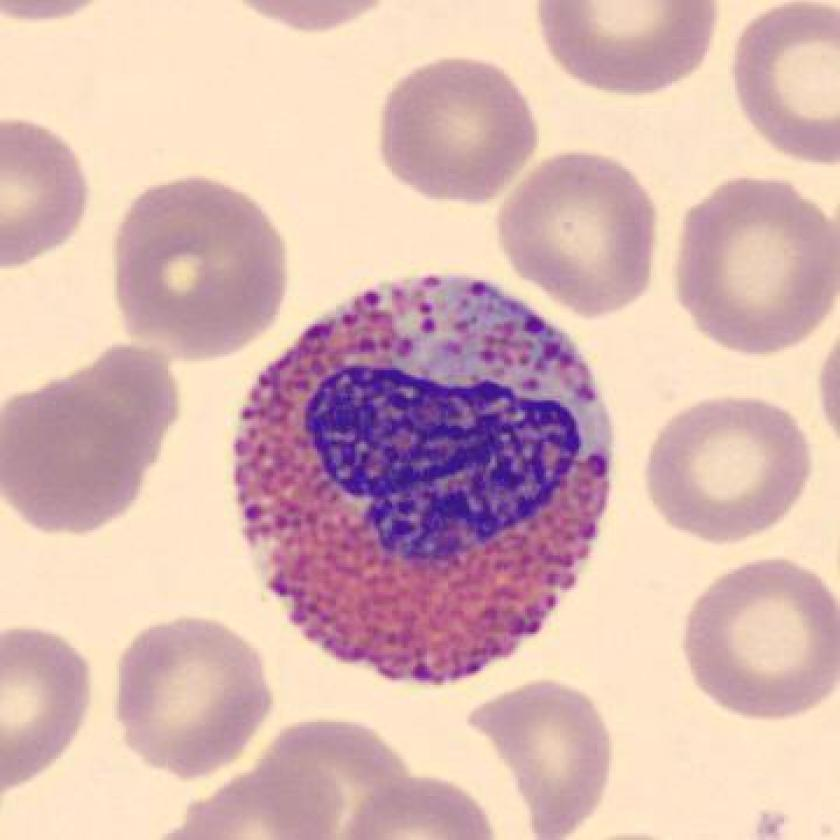eosinophil: (223, 258, 633, 693)
